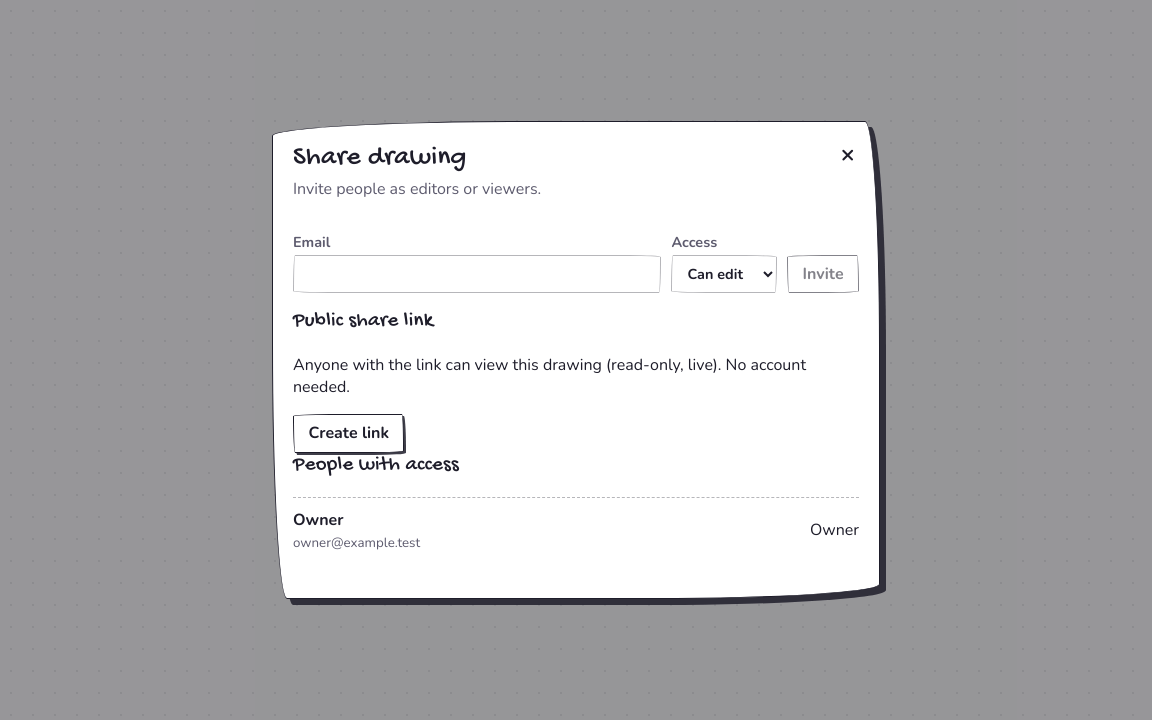
SharingDialog › creates, shows, and revokes the public share link
Click the button "Create link": (349, 433) [293,414,404,452]
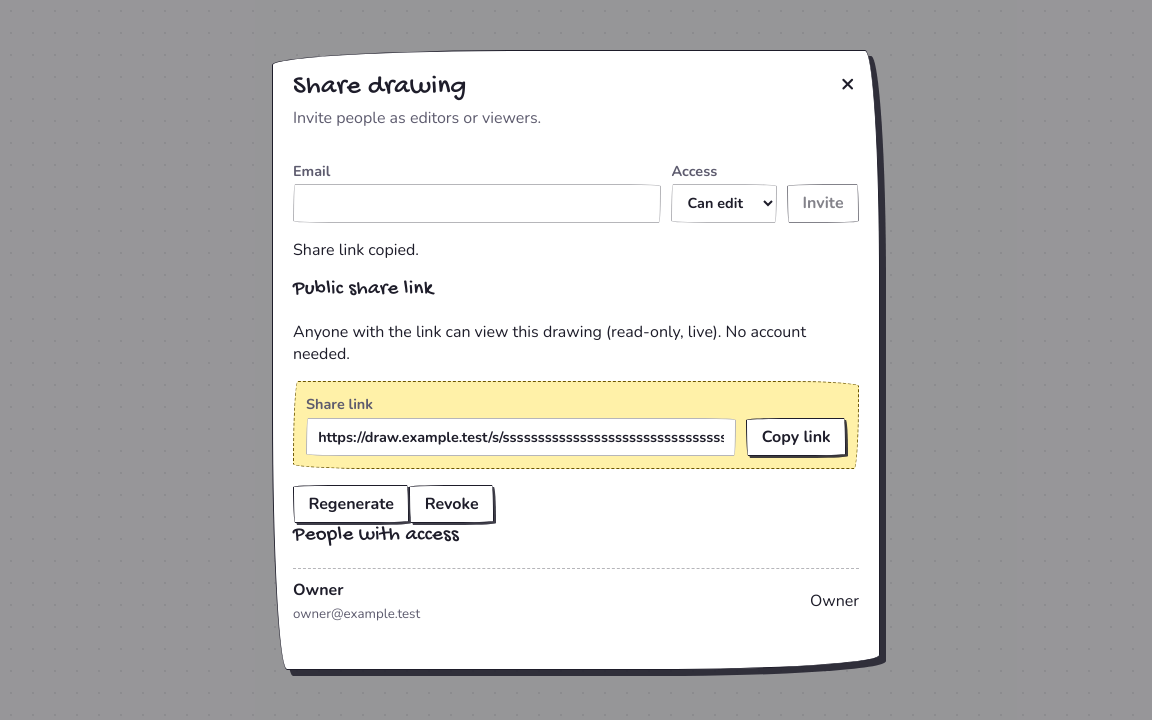
Click the button "Revoke": (452, 504) [409,485,494,523]
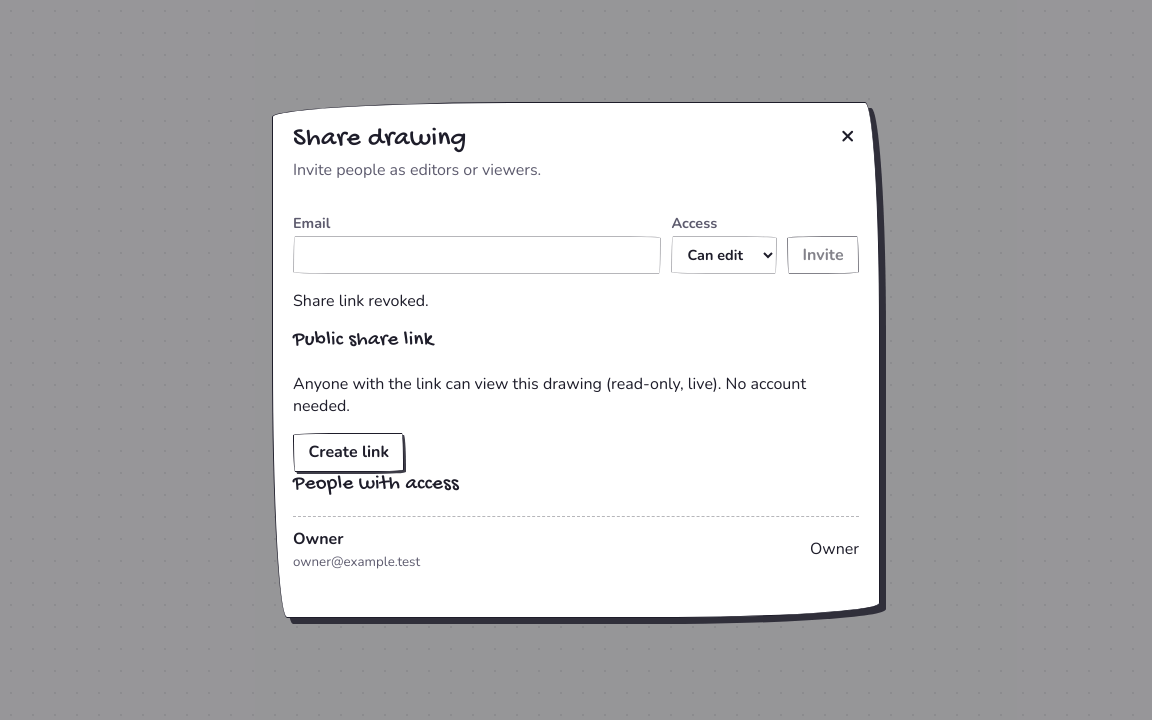
Now the button "Create link" is shown, box [293,433,404,472]
